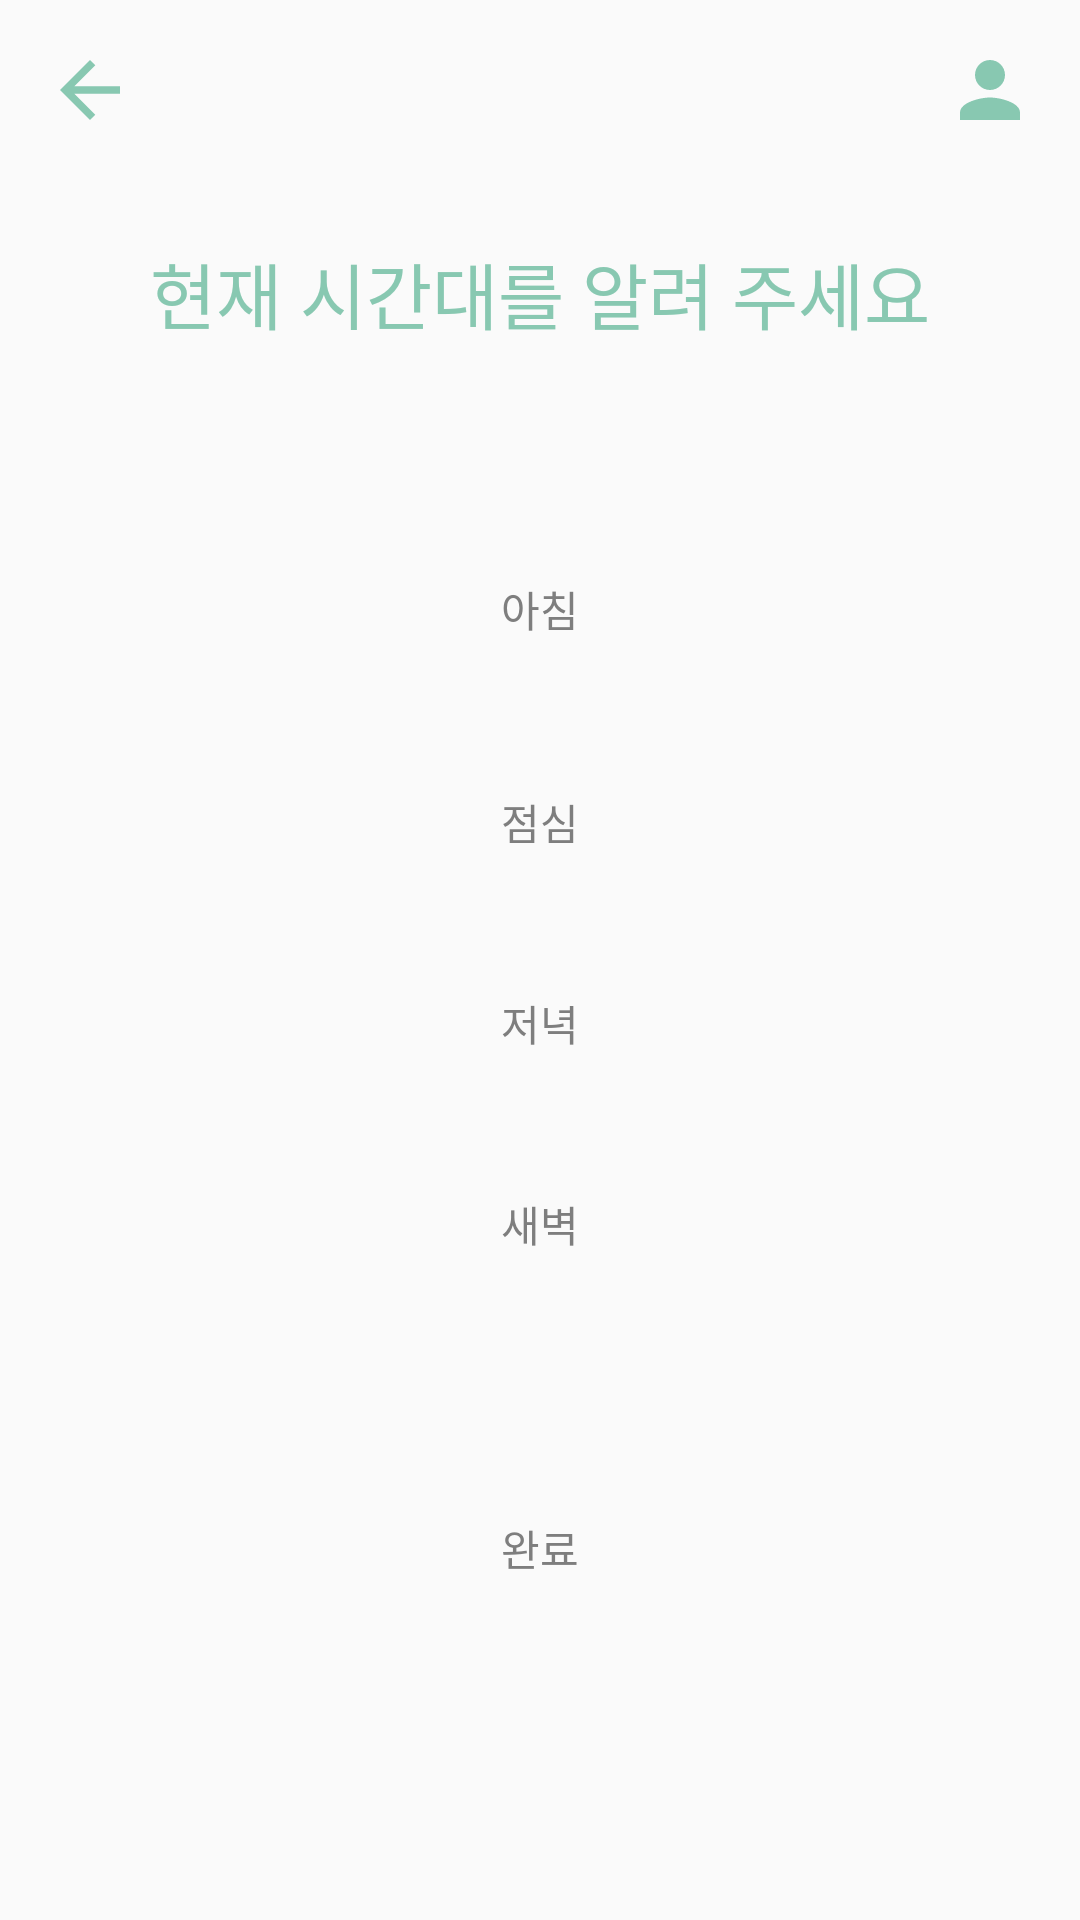

Icons on this 1080 × 1920 Android screen, each with its box as (x1, y1, x2, y2):
arrow back: (60, 60, 120, 120)
person: (960, 60, 1020, 120)
